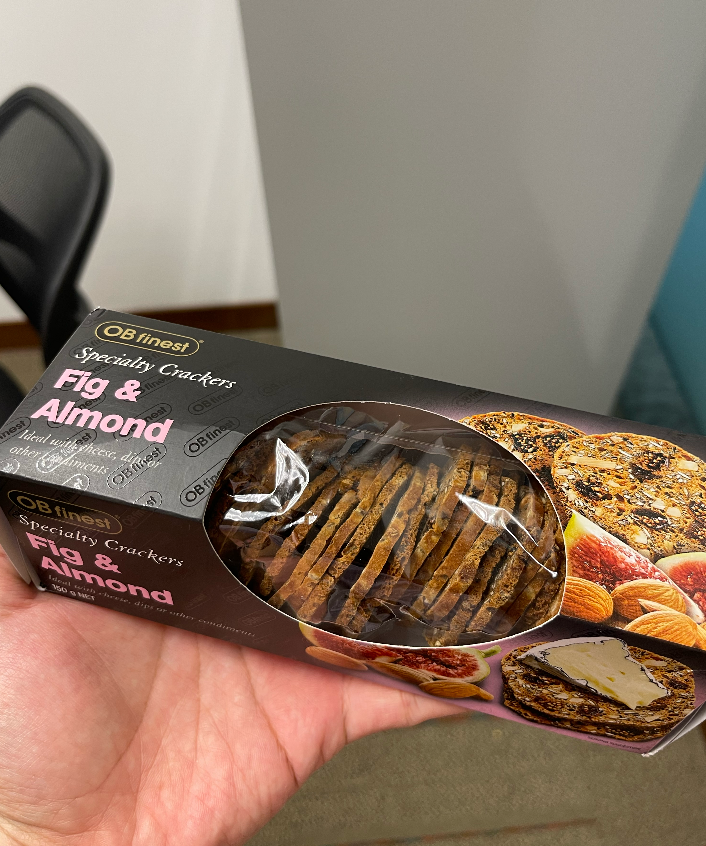crackers_100g-199g: (69, 357, 675, 705)
